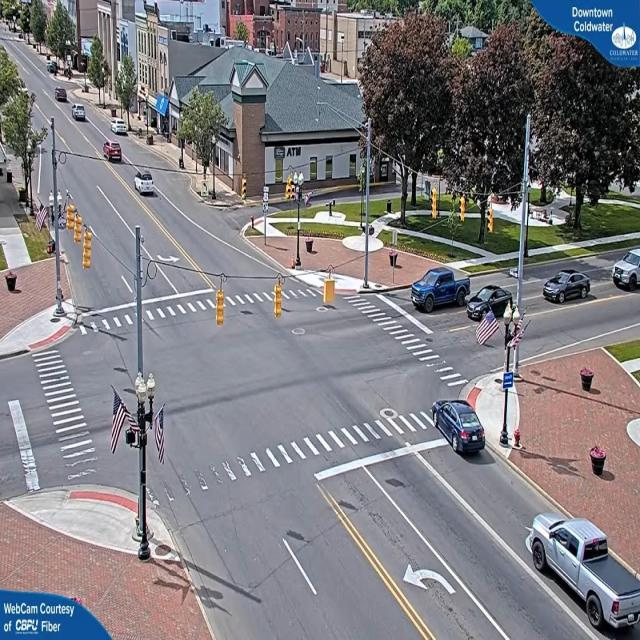car: (528, 514, 637, 634), (433, 400, 484, 455), (410, 266, 470, 311), (468, 283, 517, 325), (544, 268, 594, 304), (611, 250, 640, 291), (132, 172, 156, 196), (105, 142, 124, 164), (112, 121, 130, 138), (73, 105, 88, 123), (55, 87, 69, 103)
